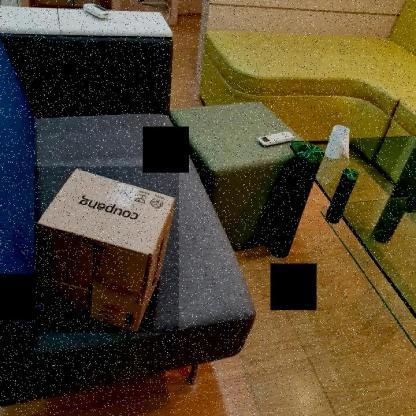-: (34, 166, 179, 333)
